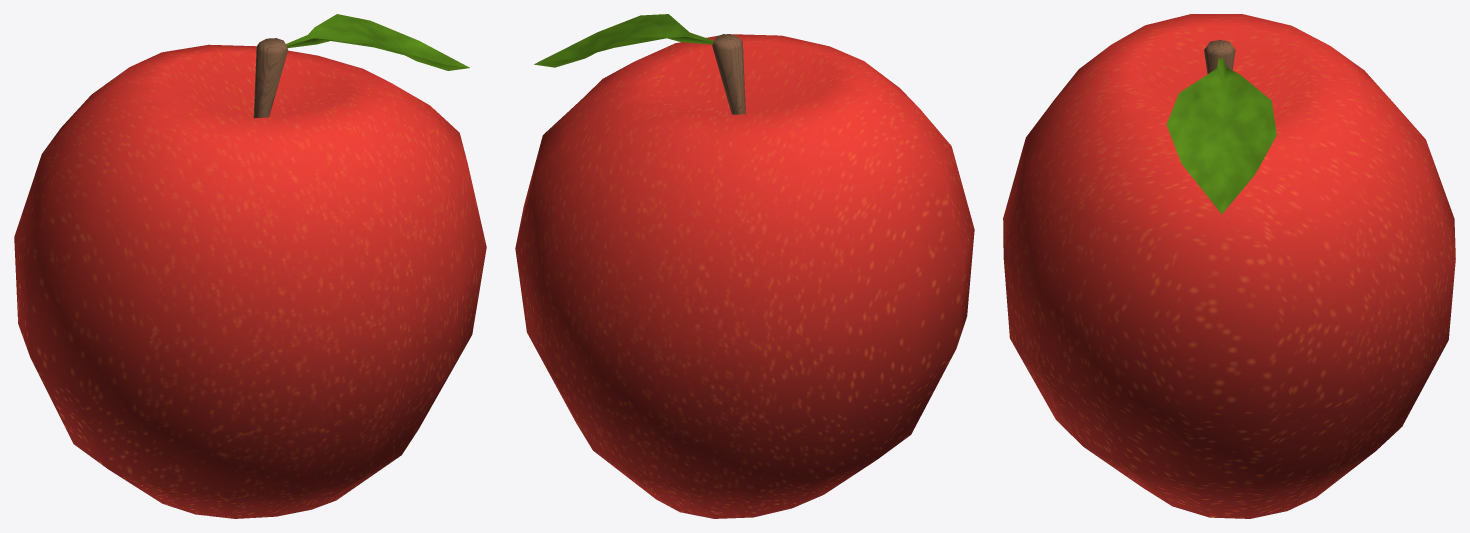
The model's file is applered.glb.
The picture shows the model from 3 angles, left to right: view 1: azimuth 30°, elevation 25°; view 2: azimuth 150°, elevation 25°; view 3: azimuth 270°, elevation 25°; orthographic projection. The views are drawn at different scales.
Parts seen in each view (by area): view 1: applered, lowpolyleaf.001, lowpolytige.001; view 2: applered, lowpolyleaf.001, lowpolytige.001; view 3: applered, lowpolyleaf.001, lowpolytige.001.
Boxes of the visible parts, x1,y1,x2,y2 form: applered: [14, 44, 486, 518]; lowpolyleaf.001: [286, 14, 469, 70]; lowpolytige.001: [253, 38, 287, 118]; applered: [515, 34, 974, 518]; lowpolyleaf.001: [534, 14, 713, 67]; lowpolytige.001: [712, 34, 745, 114]; applered: [1003, 14, 1455, 518]; lowpolyleaf.001: [1166, 57, 1276, 213]; lowpolytige.001: [1204, 40, 1235, 73].
Bounding box in the file's own units: 1.31 × 1.33 × 1.23.
1 material, 1 textured.
